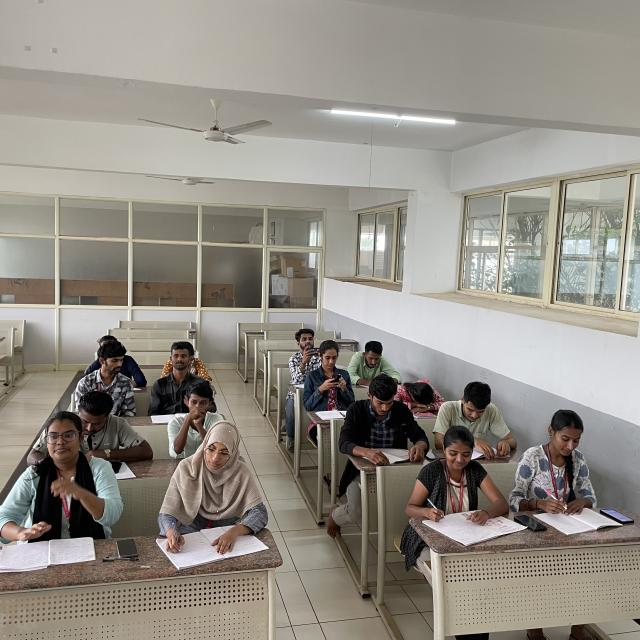Reading: (428, 355, 518, 462), (342, 370, 419, 473)
Sleeping: (393, 347, 457, 418)
Using Phone: (271, 311, 328, 375), (306, 338, 355, 408)
Writing: (154, 420, 267, 553), (505, 409, 603, 529), (416, 429, 502, 537)
